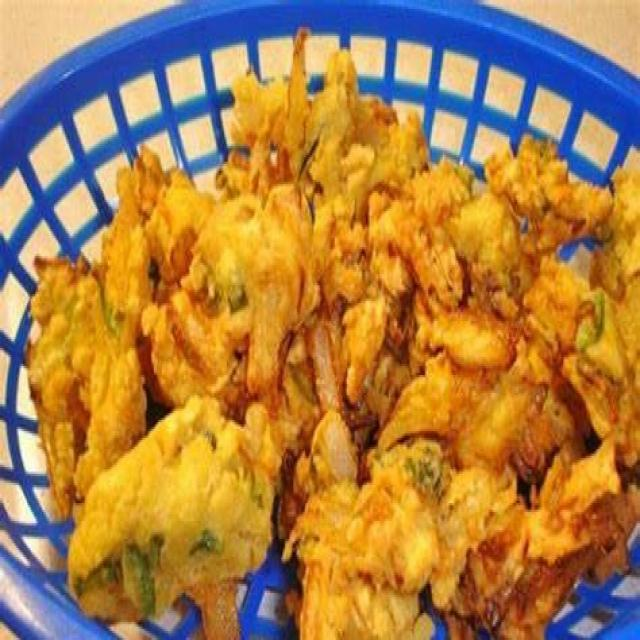Onion Pakora: (28, 22, 640, 640)
